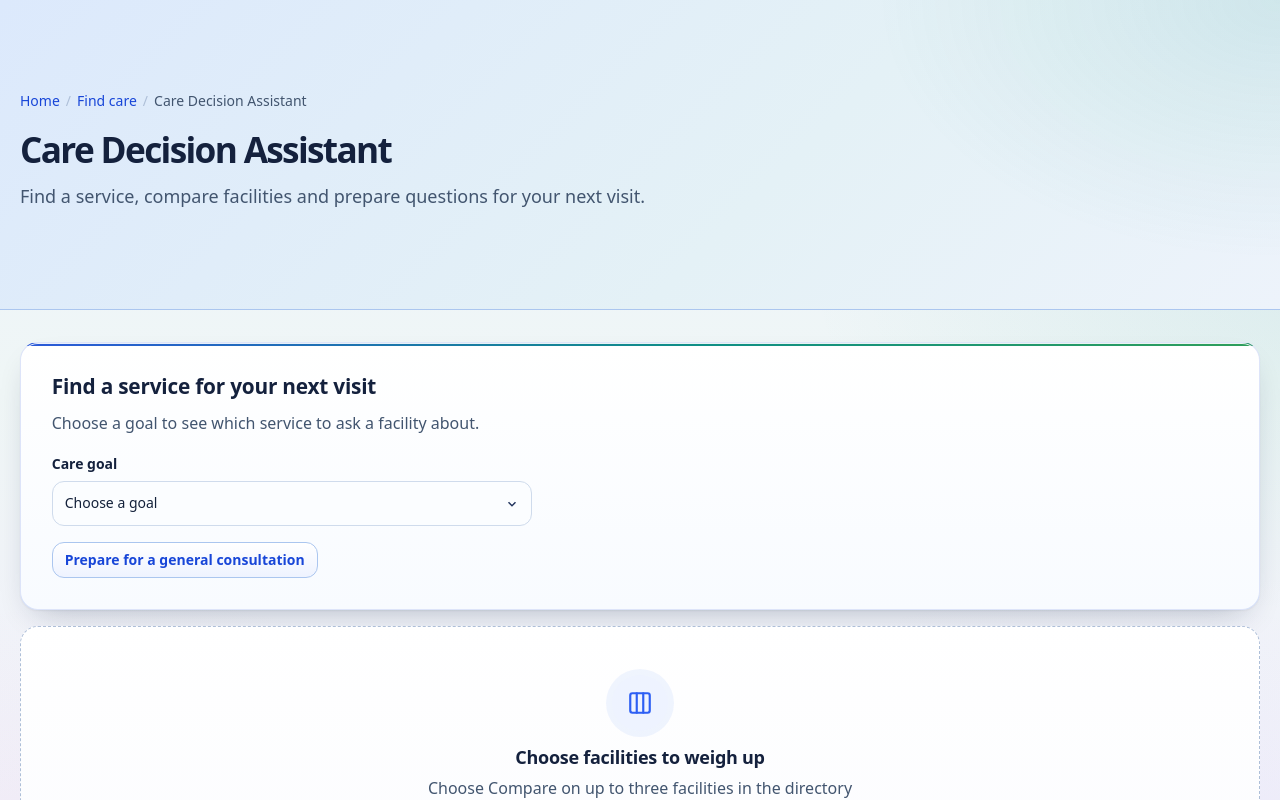
Scenario: suggests only services in the catalogue and carries a matching checklist without adding a goal to that URL
Expected: the link "Search for this service" is not shown
Step 1. Select "Plan pregnancy check-ups" in the dropdown labelled "Care goal" → (292,504), box [52,481,532,526]
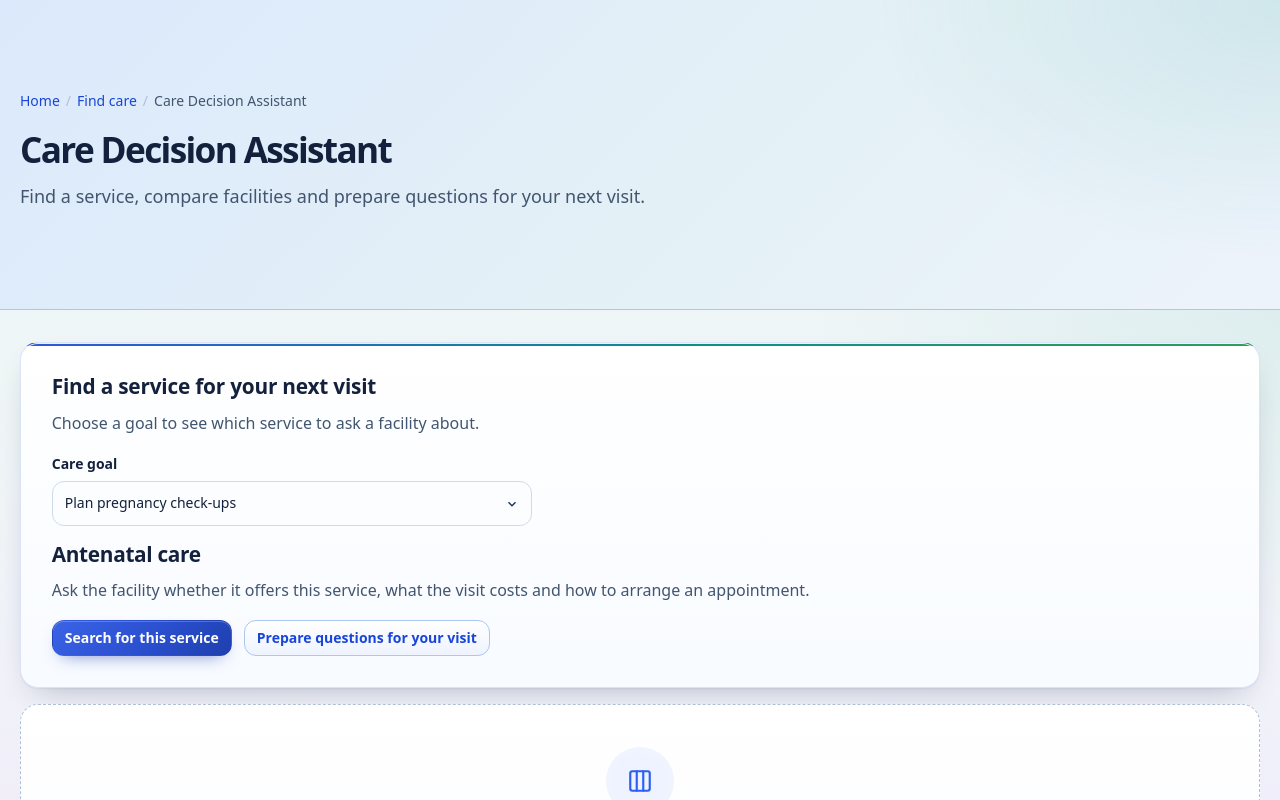
Now the heading "Antenatal care" is shown, box [52,540,201,568]
Step 2. Click the link "Prepare questions for your visit" → (367,638), box [244,620,490,656]
(page scrolled)
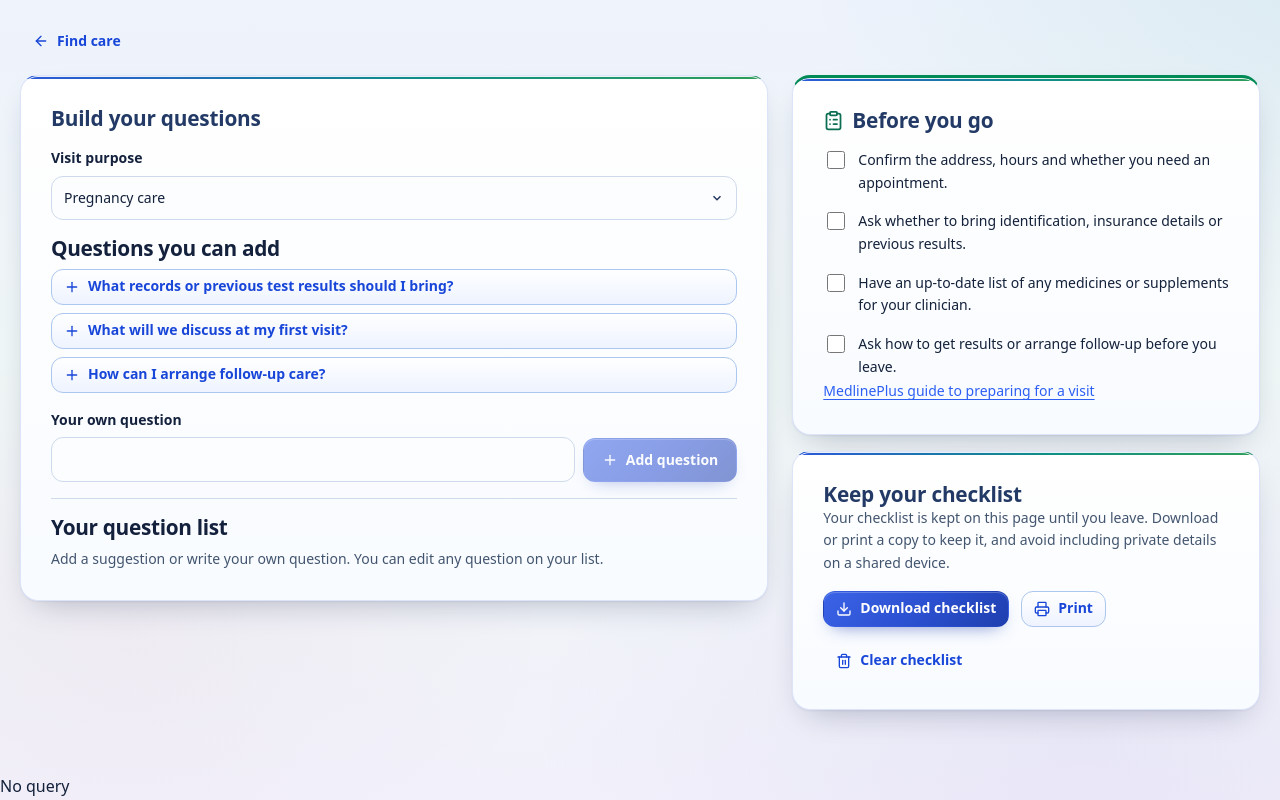
Expected: the text named "Current URL query" reads "No query", [0,775,70,797]
Now the dropdown labelled "Visit purpose" shows "Pregnancy care", box [51,176,737,220]
